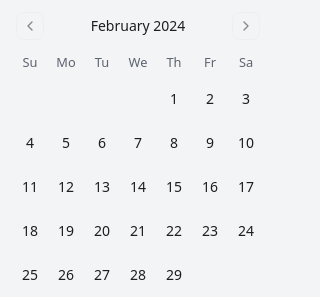
Test: Calendar › Navigation › navigates to previous month
The image size is (320, 297).
Click the button named "Go to previous month" at point(30, 26), box [16, 12, 44, 40]
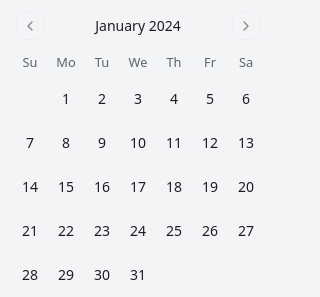
Result: the text "January 2024" is shown at [95, 16, 181, 36]
